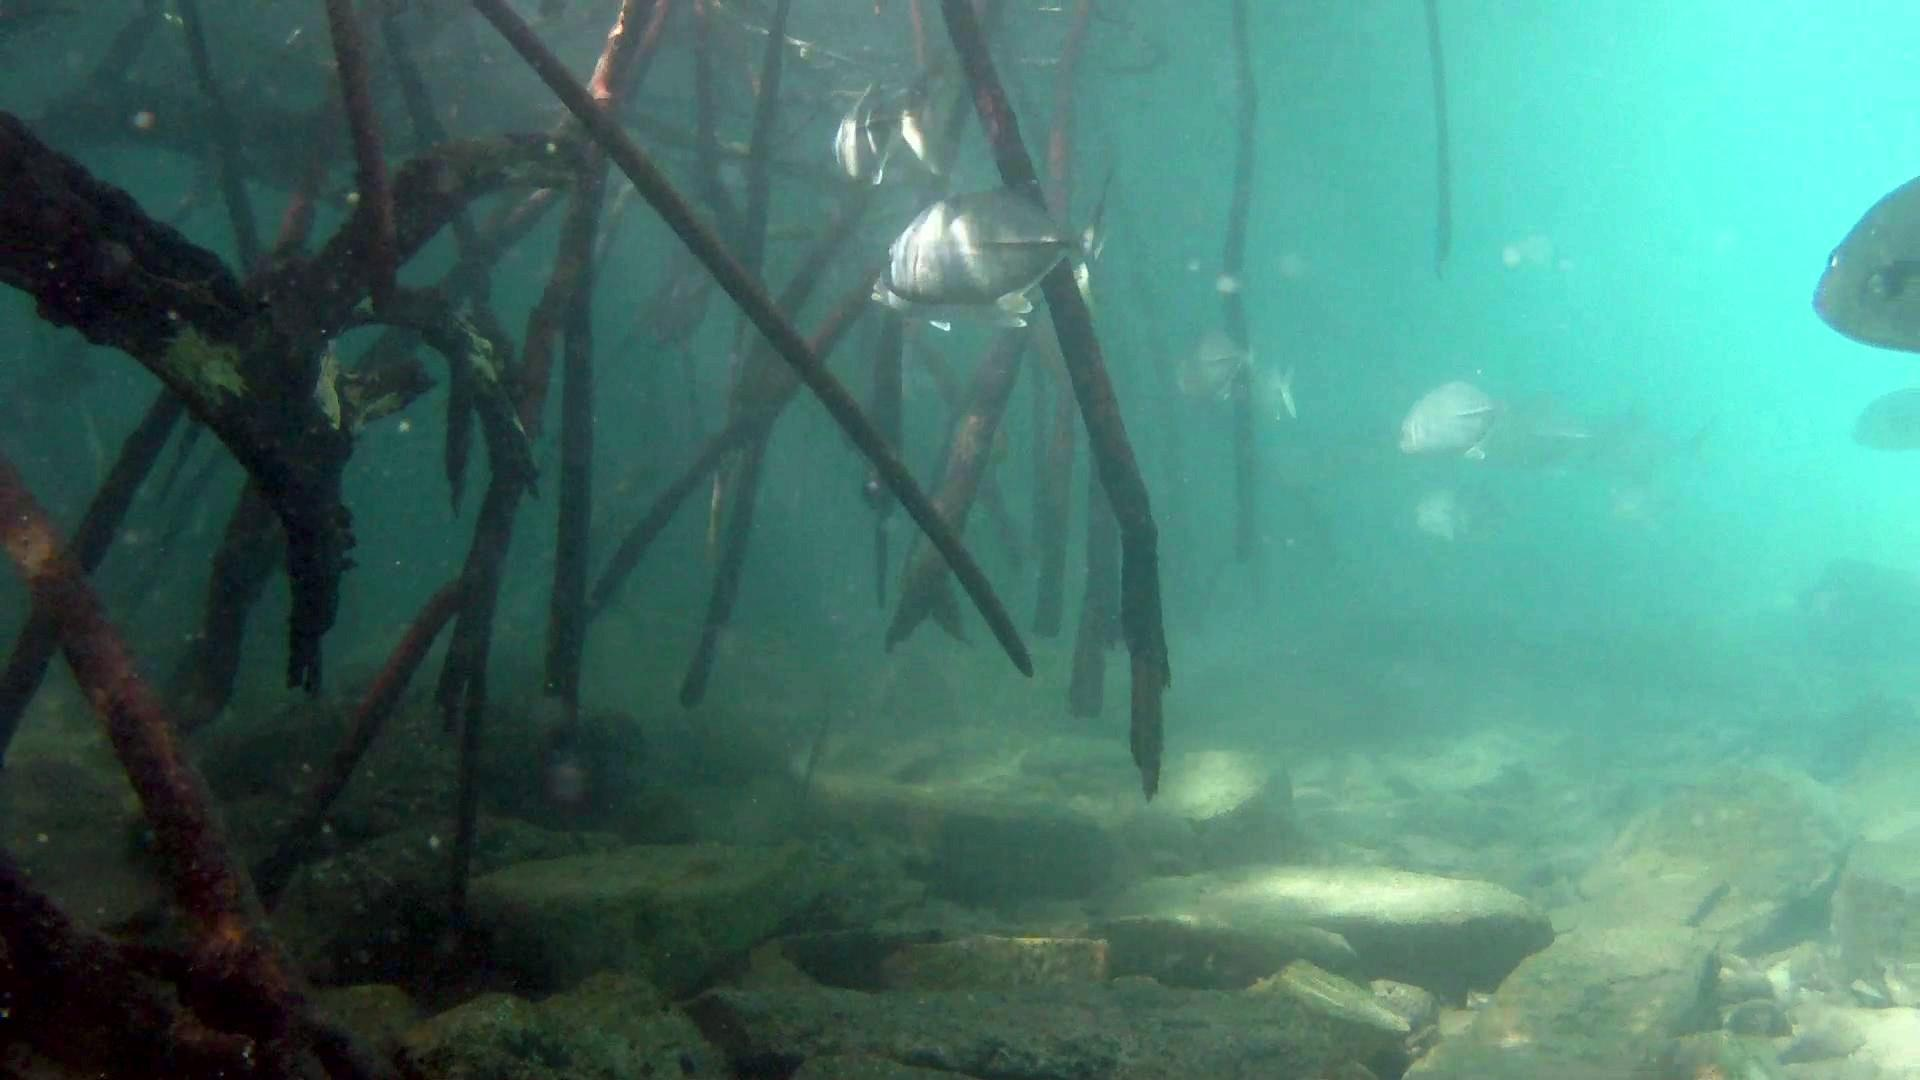caranx: (875, 178, 1121, 329), (1806, 167, 1920, 359)
